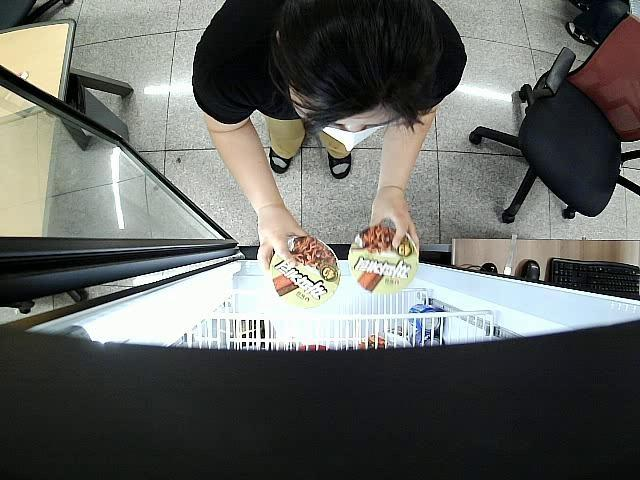03_chapagetti_L: (268, 234, 339, 309), (349, 227, 418, 294)
